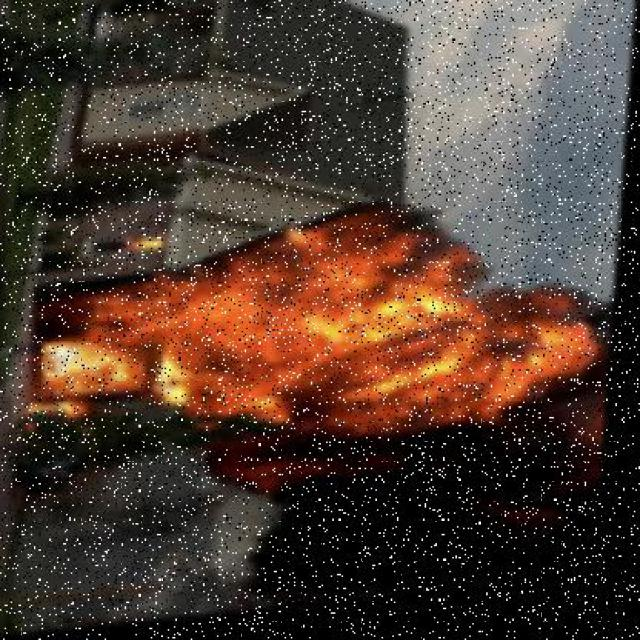fire: (104, 192, 593, 483)
